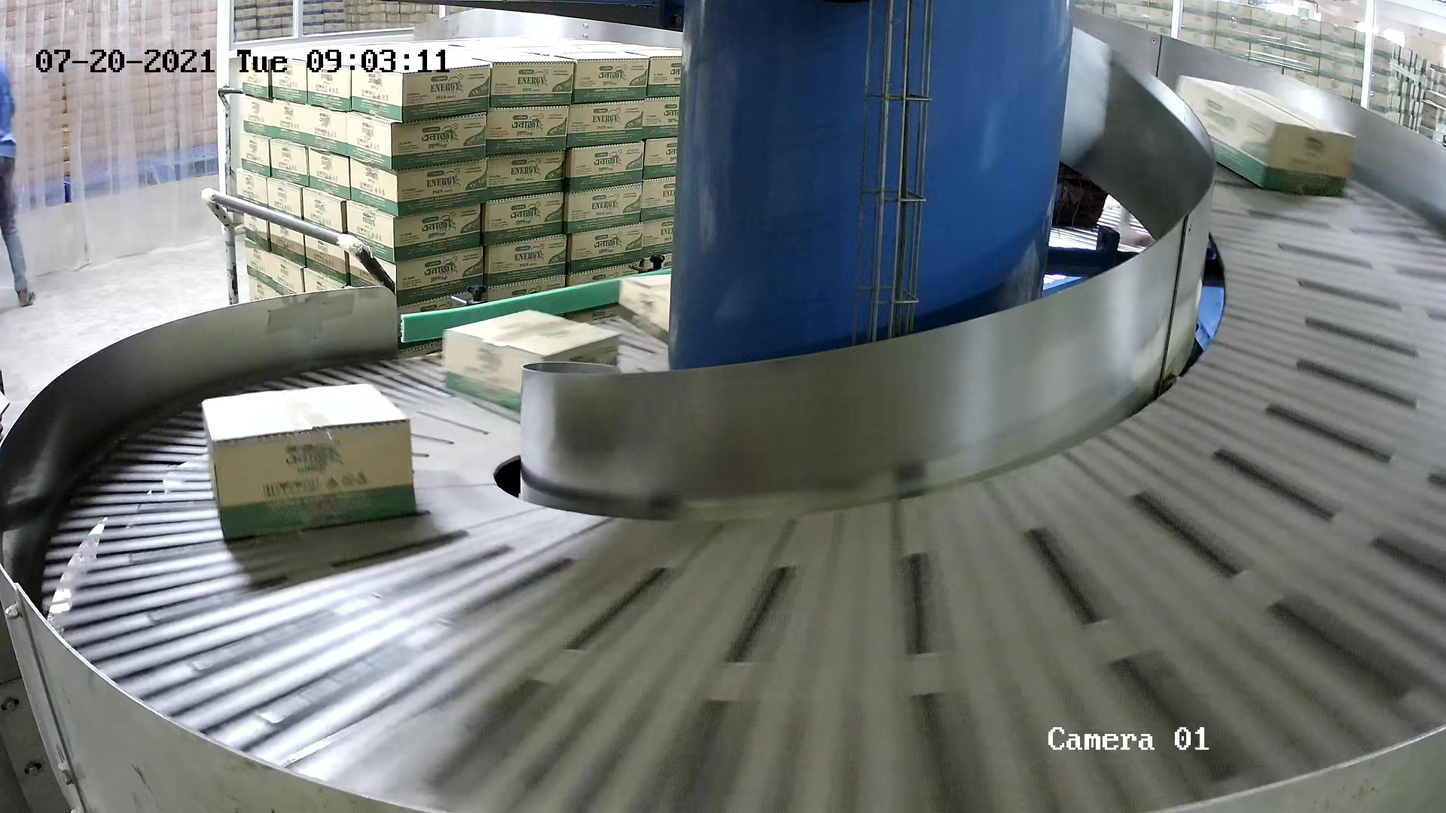Box: (199, 380, 419, 542), (1171, 73, 1358, 198), (441, 307, 625, 415), (615, 271, 671, 347)
